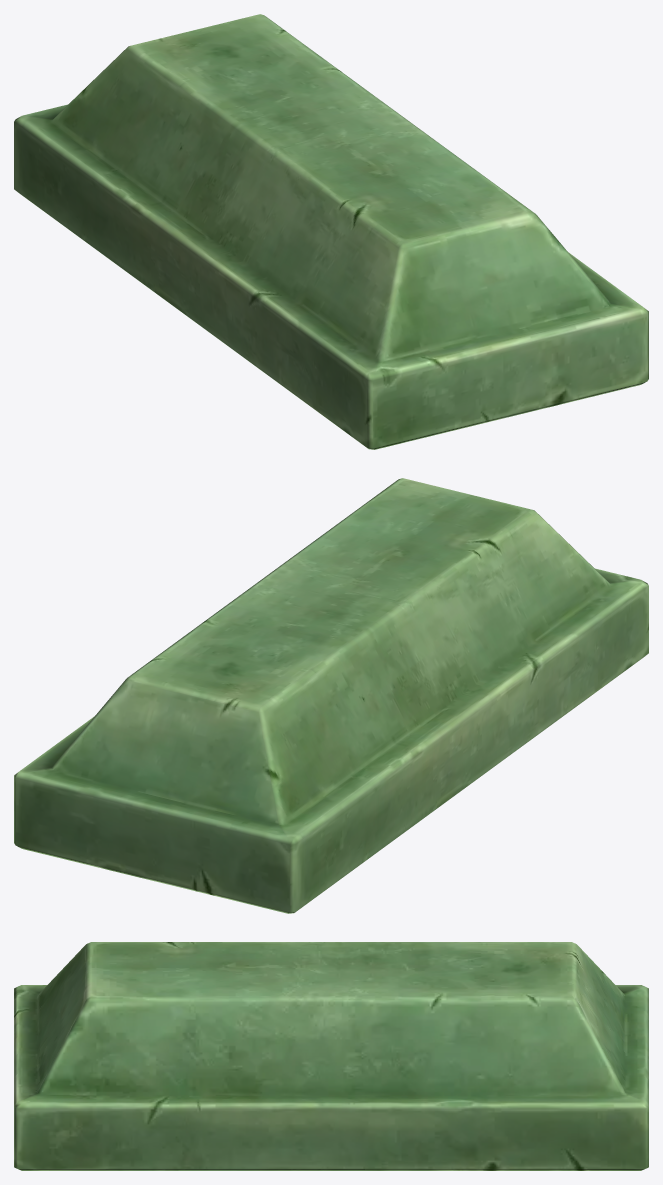
3 renders of one model, top to bottom at view 1: azimuth 30°, elevation 25°; view 2: azimuth 150°, elevation 25°; view 3: azimuth 270°, elevation 25°, orthographic. The views are drawn at different scales.
Parts seen in each view (by area): view 1: SM_Ingot_Adamantite_01_LOD0; view 2: SM_Ingot_Adamantite_01_LOD0; view 3: SM_Ingot_Adamantite_01_LOD0.
Part boxes in pixels (x1,y1,x2,y2): SM_Ingot_Adamantite_01_LOD0: (14, 14, 648, 449); SM_Ingot_Adamantite_01_LOD0: (14, 478, 648, 913); SM_Ingot_Adamantite_01_LOD0: (14, 942, 648, 1170).
Size of the model in its own units: 0.2445 by 0.1322 by 0.5369.
